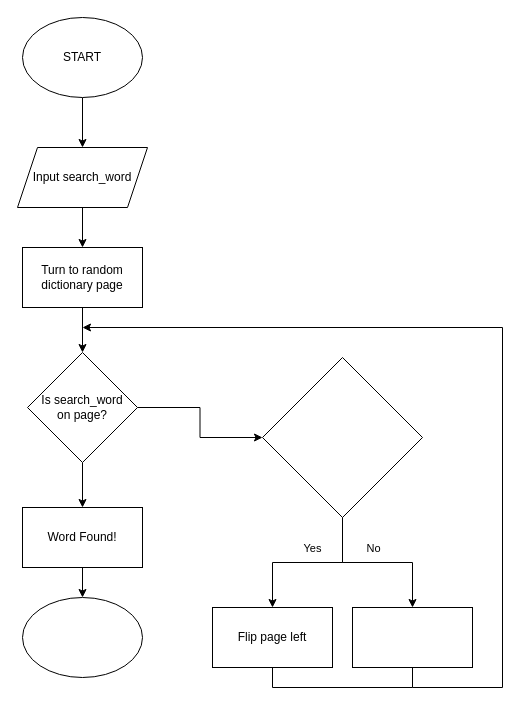
The diagram is 528 pixels wide and 713 high, and some of its shapes have lost their labels. The shapes that lost their labels are listed below. From the top down, each one's box as (x1, y1, x2, y2) in pixels, then its label:
(262, 356, 422, 518): Do the words on the page come before search_word?
(22, 596, 142, 678): END
(352, 606, 472, 668): Flip page right
